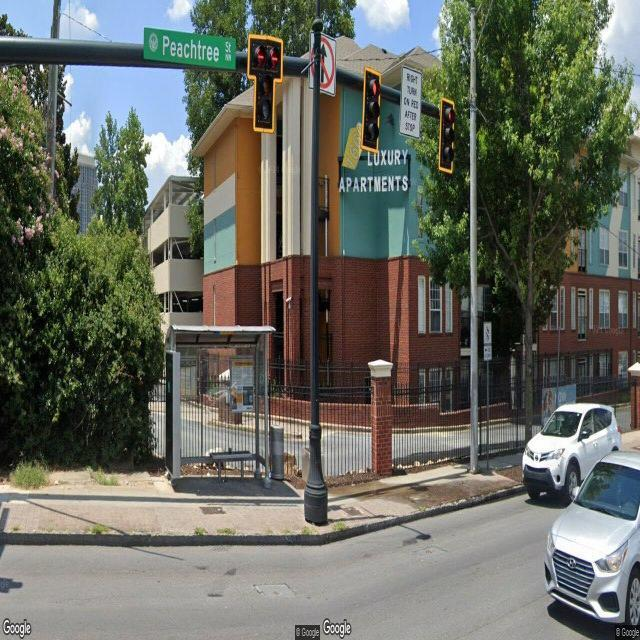seating: (211, 451, 258, 481)
shelter: (166, 323, 278, 488)
trash_can: (270, 424, 284, 484)
